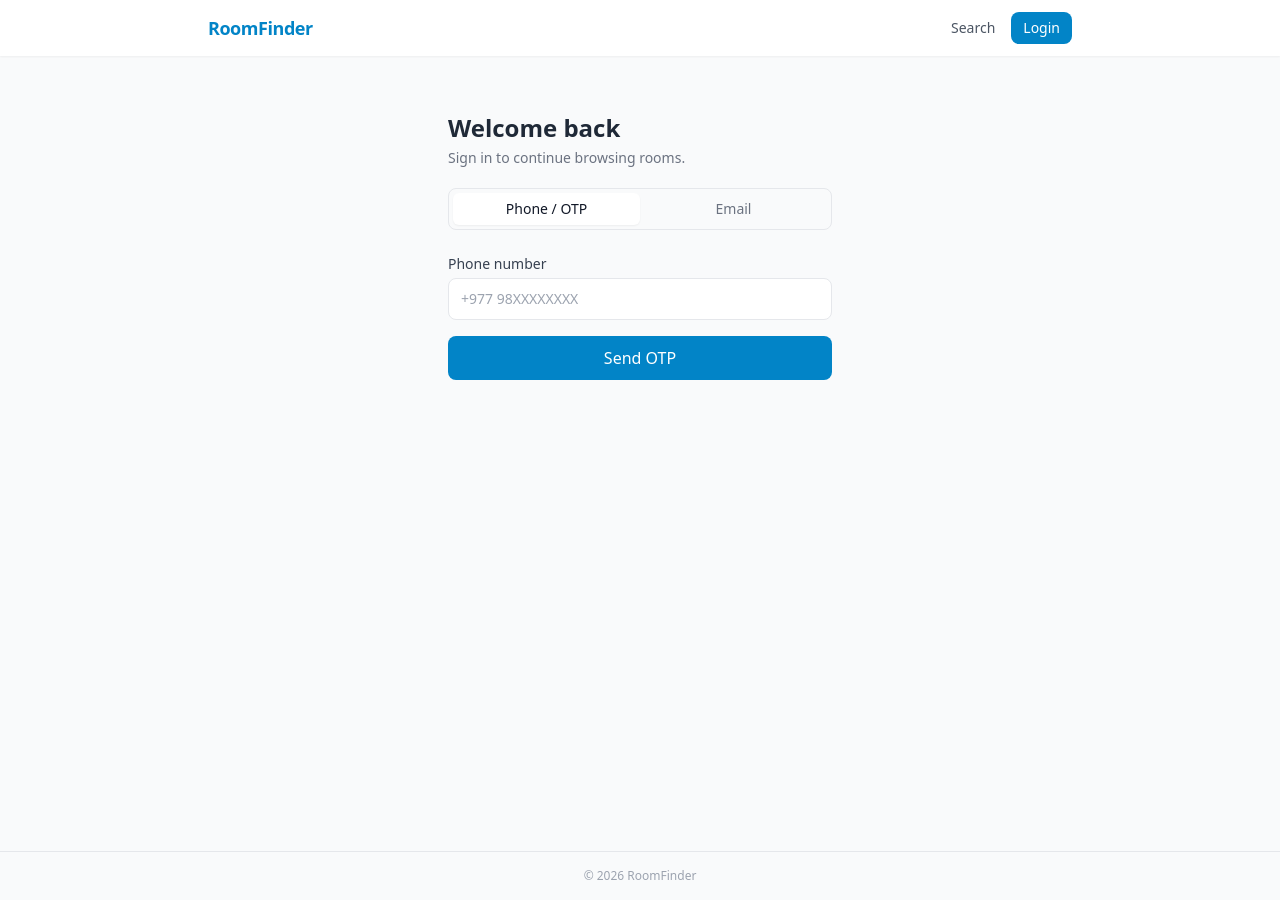
Test: LoginPage — Phone OTP flow › shows error when requestOtp fails
The image size is (1280, 900).
Type "+9779800000000" into the field with placeholder "+977 98XXXXXXXX" at (640, 299), box left=448, top=278, right=832, bottom=320
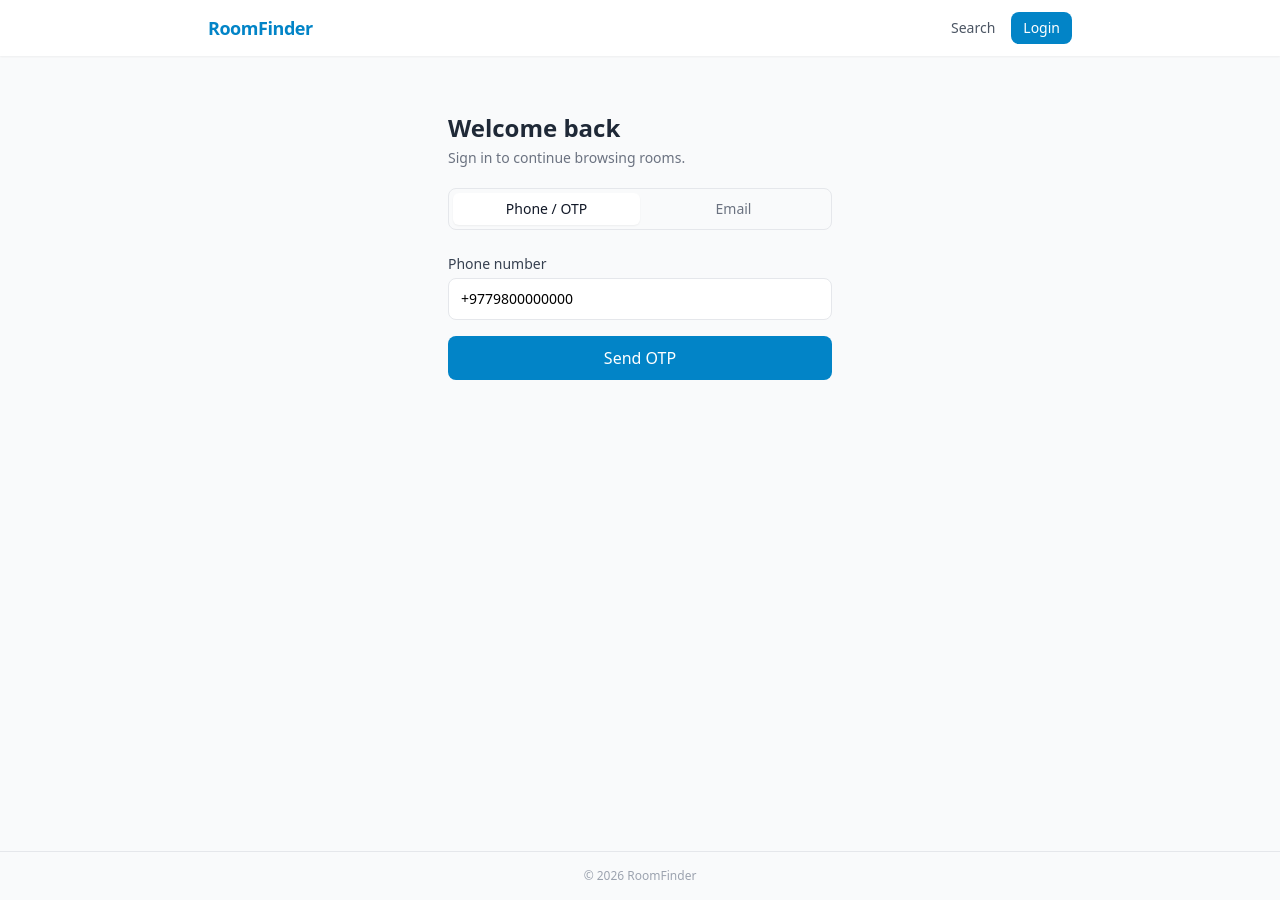
Click the button "Send OTP" at (640, 358), box left=448, top=336, right=832, bottom=380
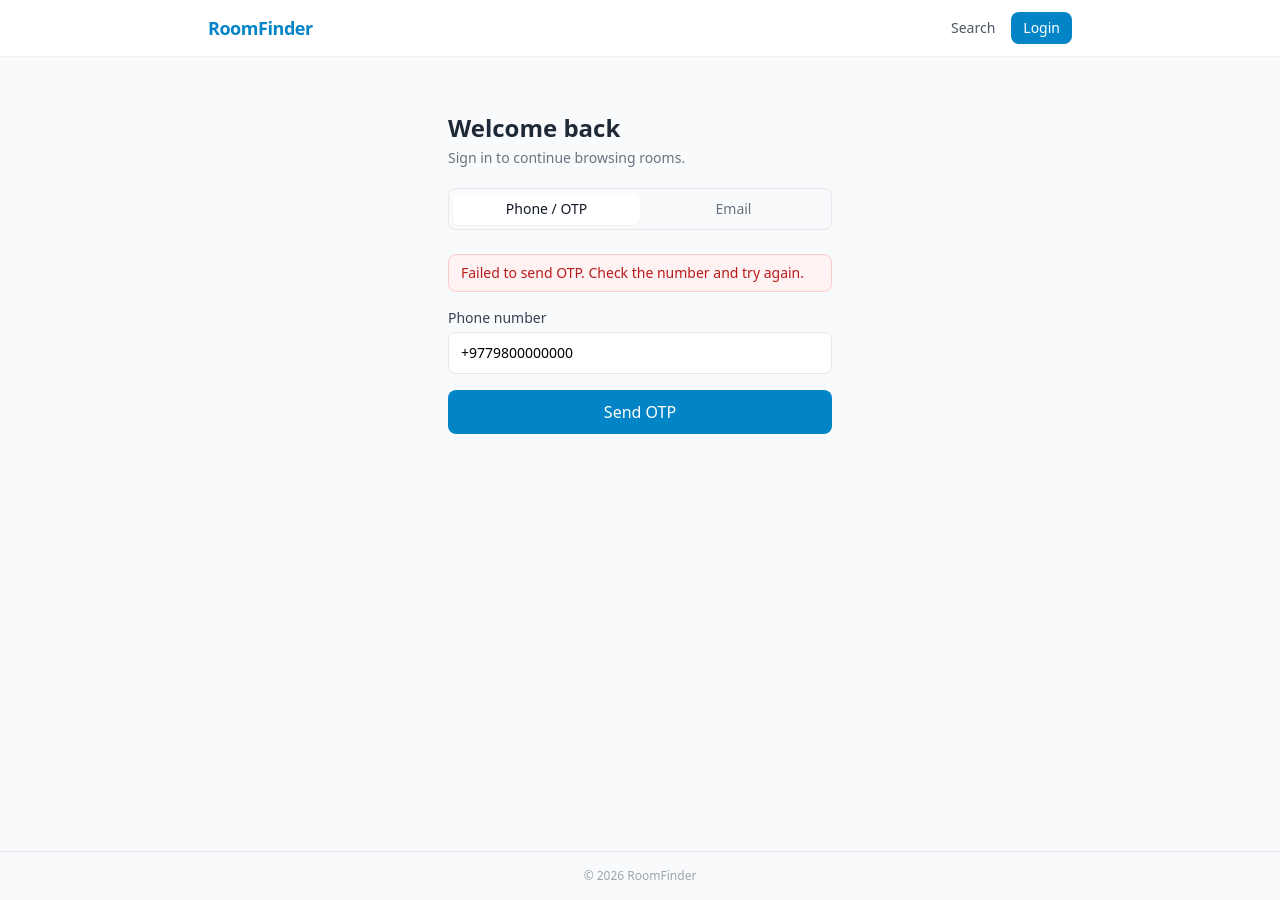
Check: the text "Failed to send OTP. Check the number and try again." is shown, box left=448, top=254, right=832, bottom=292
